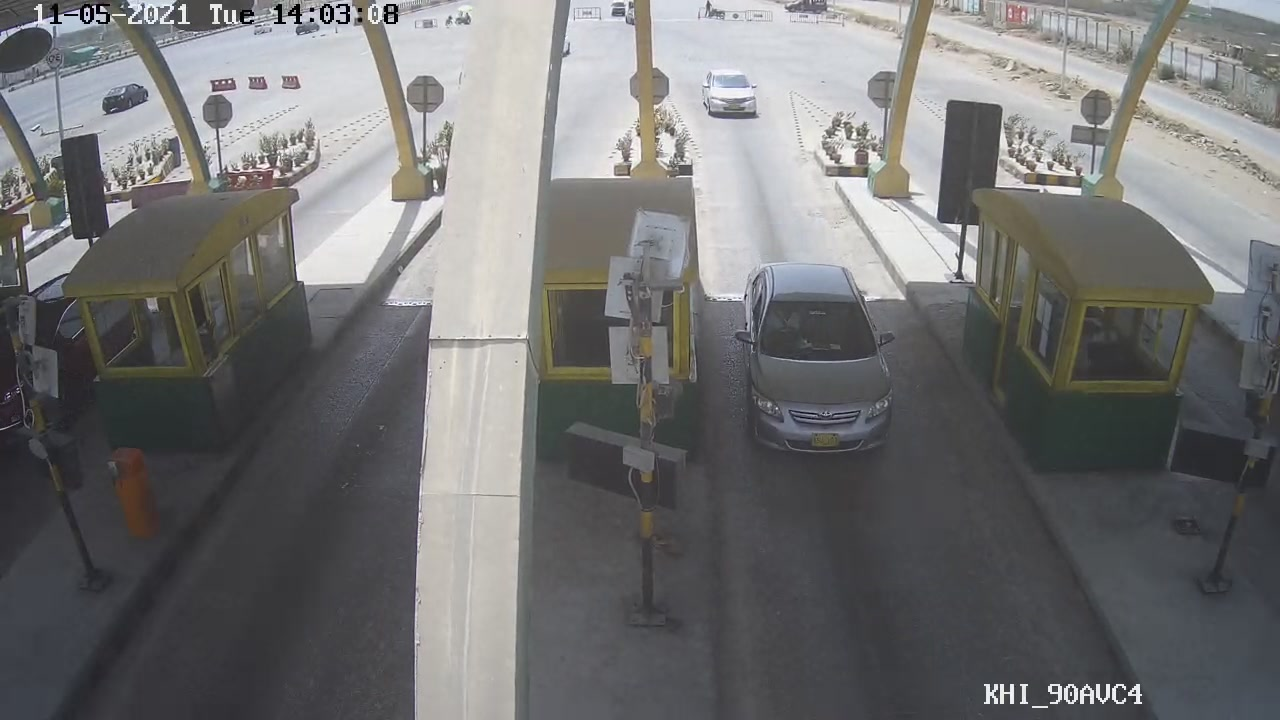F1: (733, 253, 910, 466)
